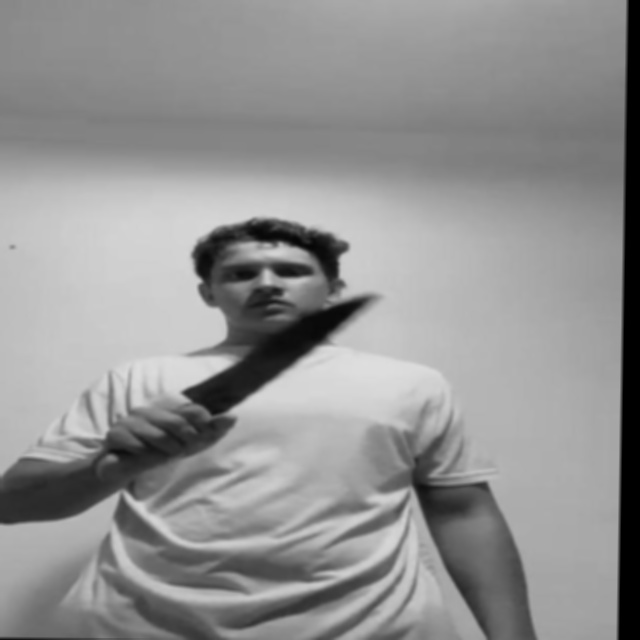Sharp-Object: (179, 290, 387, 410)
